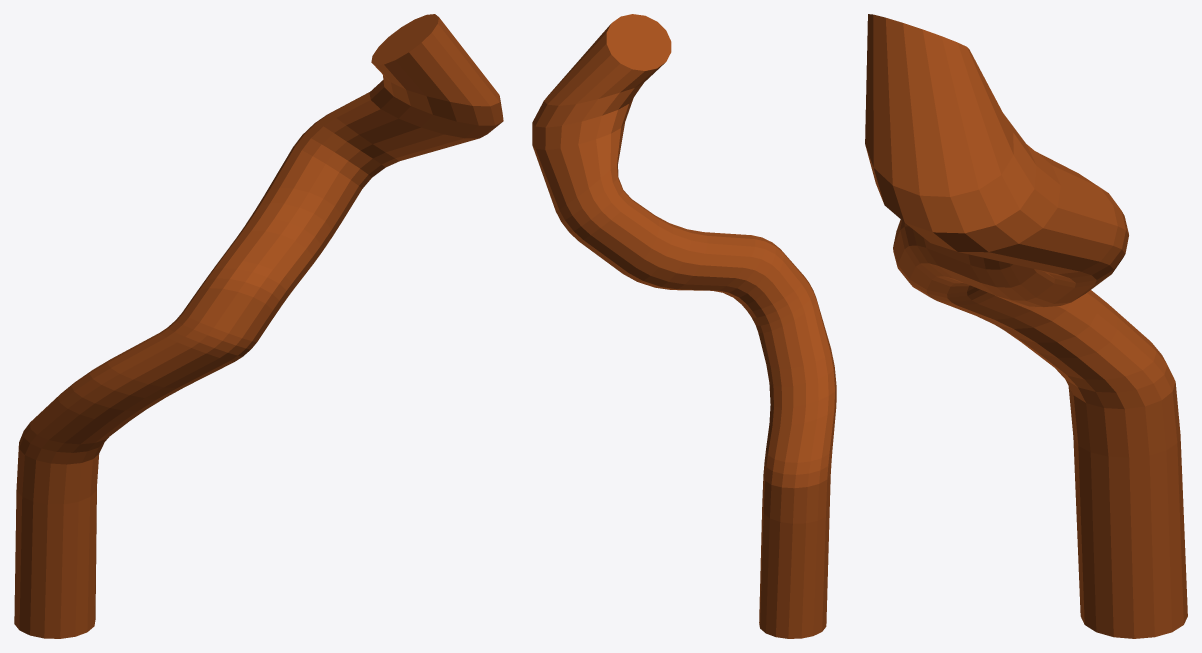
Rendered from agac_garip.fbx.
The picture shows the model from 3 angles, left to right: view 1: azimuth 30°, elevation 25°; view 2: azimuth 150°, elevation 25°; view 3: azimuth 270°, elevation 25°; orthographic projection. The views are drawn at different scales.
Visible parts, largest first — view 1: Cylinder.005; view 2: Cylinder.005; view 3: Cylinder.005.
Boxes of the visible parts, x1,y1,x2,y2 form: Cylinder.005: (14, 14, 503, 638); Cylinder.005: (532, 14, 836, 638); Cylinder.005: (865, 14, 1187, 638).
Bounding box in the file's own units: 17.62 × 24.56 × 9.18.
